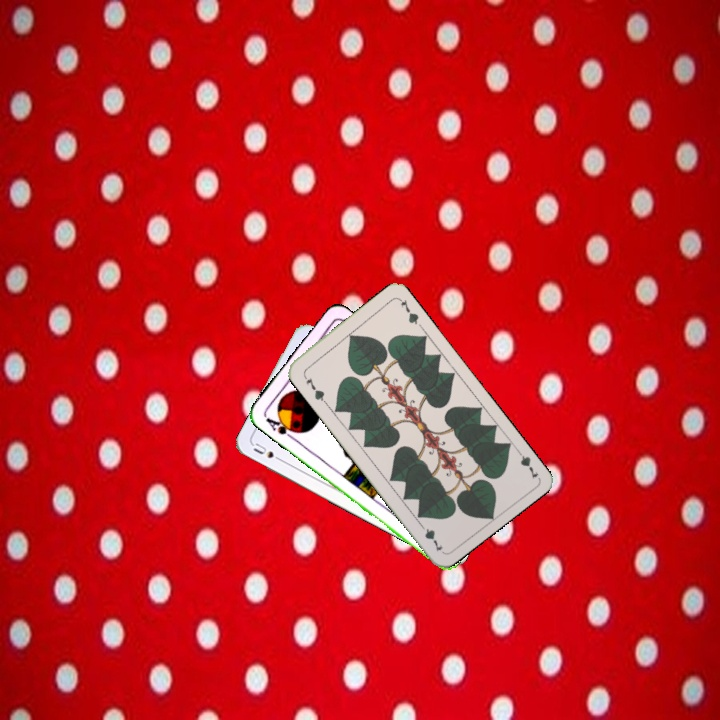G7: (512, 444, 541, 481), (299, 370, 328, 405)
SA: (261, 412, 300, 442)
SU: (249, 439, 287, 465)
